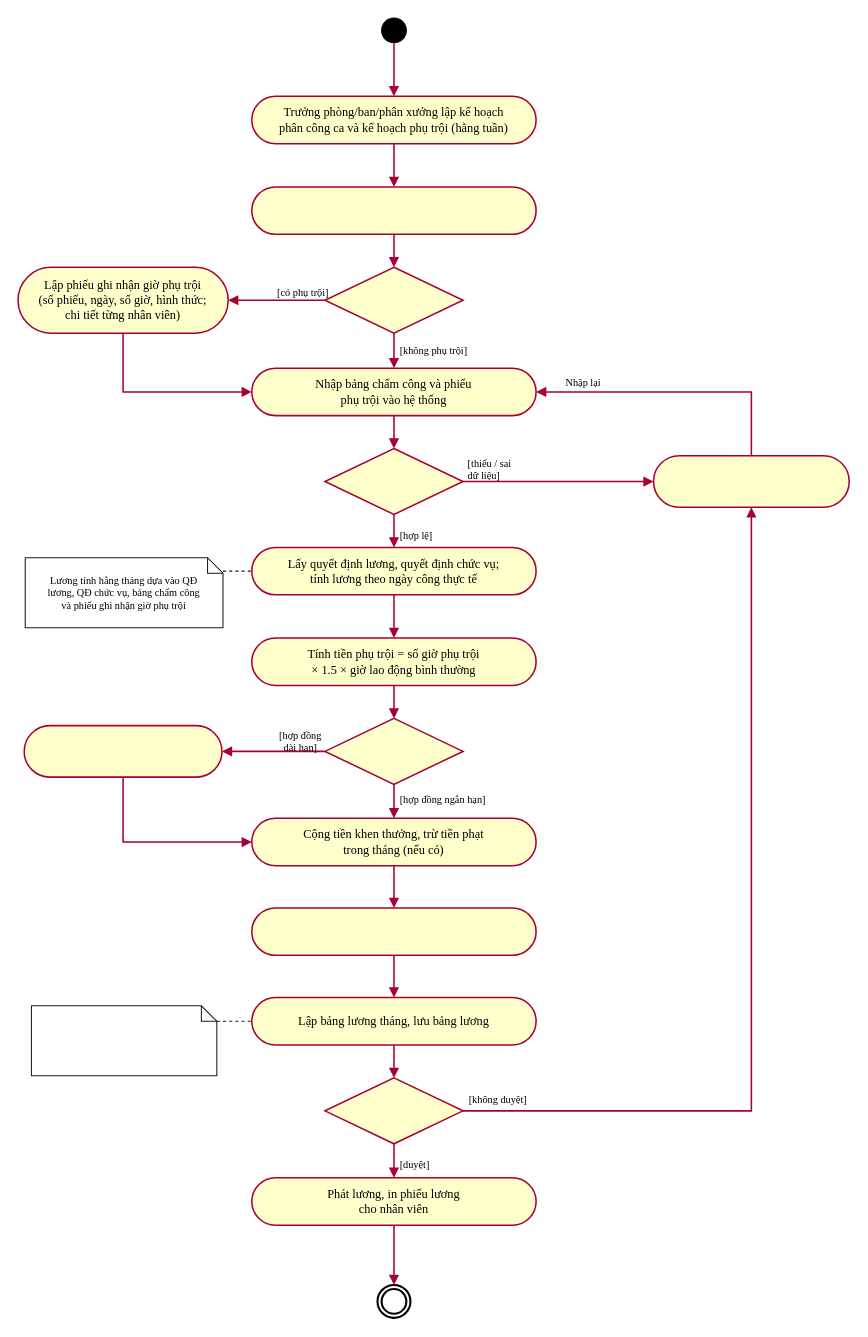
This 868x1337 diagram has some shape labels left out. Each missing label, with the centre of its shape:
Ban chấm công theo dõi thực hiện, lập phiếu chấm công: pixel 393 210
Các bước tính lương, trích BHXH và lưu bảng lương nằm trong 1 transaction: pixel 123 1040
Hủy tính lương, thông báo nguyên nhân từ chối: pixel 751 481
Trích trừ BHYT, BHXH theo mức đóng: pixel 122 750
Tổng hợp: lương thực lãnh = thu nhập − các khoản khấu trừ: pixel 393 931
